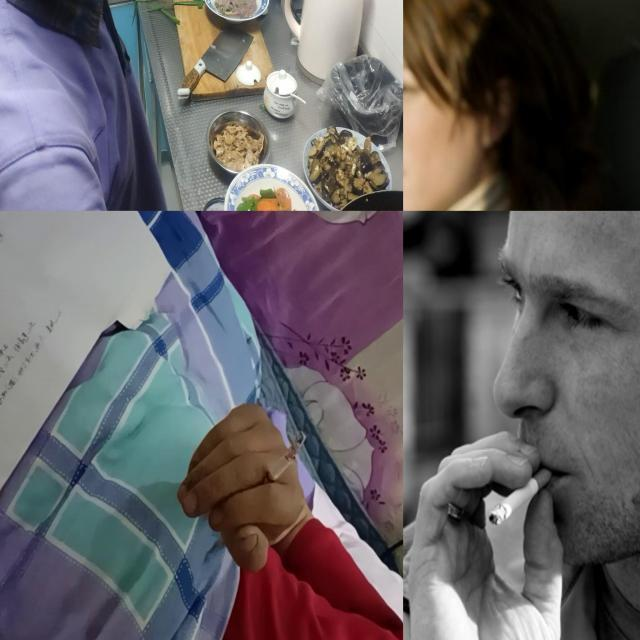smoke: (488, 468, 554, 526), (260, 431, 306, 491)
